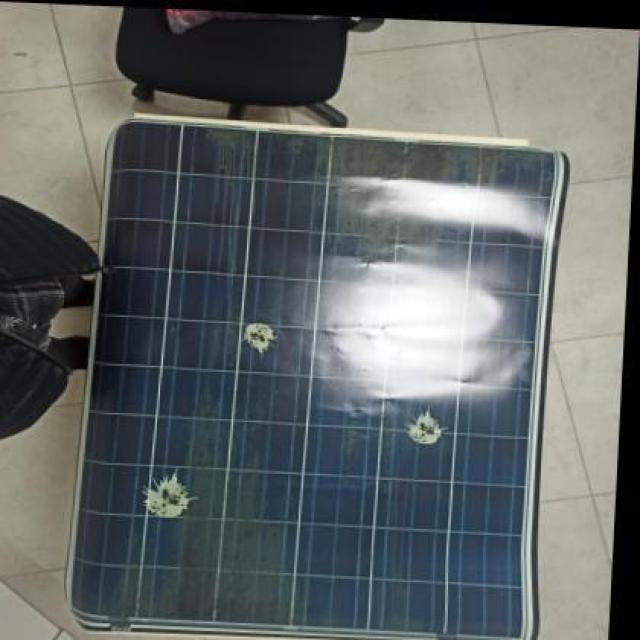soiled: (76, 119, 561, 640)
